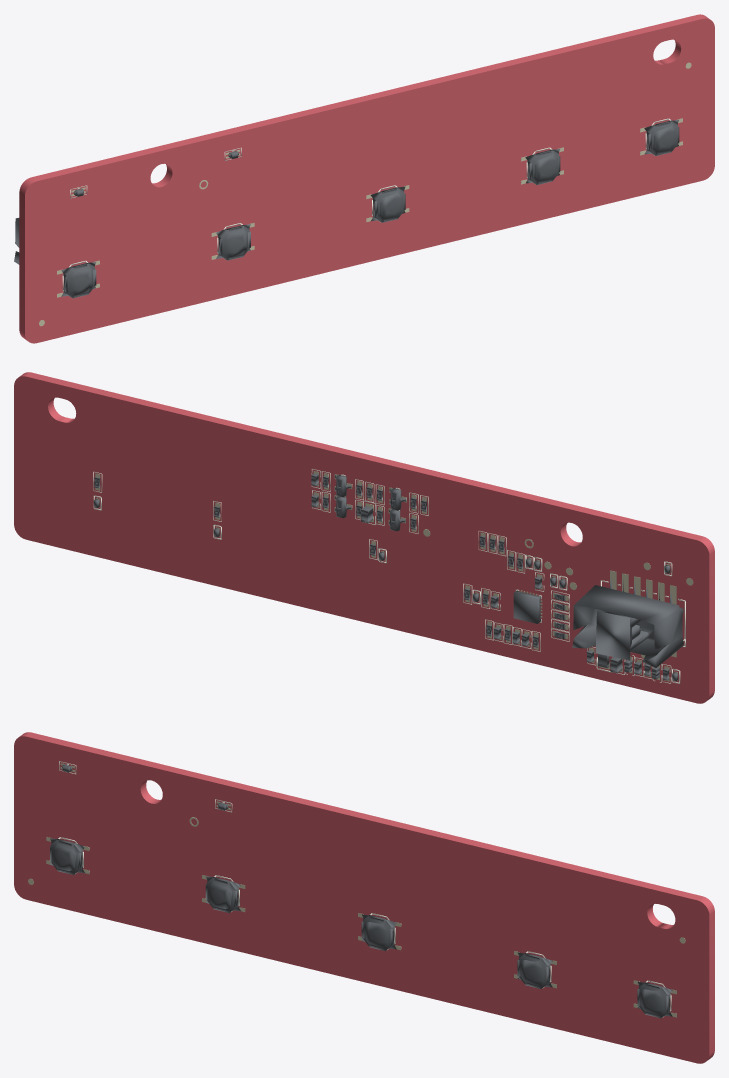
Rendered from pcb-ui.glb.
3 views of the same model, one above another, from view 1: azimuth 30°, elevation 25°; view 2: azimuth 150°, elevation 25°; view 3: azimuth 330°, elevation 25° (orthographic).
Visible parts, largest first — view 1: pcb, body, pads; view 2: pcb, body, silk, pads; view 3: pcb, body, pads.
Boxes of the visible parts, x1=… form: pcb: x1=19, y1=14, x2=714, y2=343; body: x1=14, y1=119, x2=679, y2=298; pads: x1=39, y1=62, x2=691, y2=326; pcb: x1=14, y1=372, x2=714, y2=703; body: x1=94, y1=473, x2=683, y2=681; silk: x1=93, y1=468, x2=685, y2=683; pads: x1=95, y1=471, x2=693, y2=681; pcb: x1=14, y1=732, x2=714, y2=1063; body: x1=50, y1=764, x2=672, y2=1018; pads: x1=28, y1=763, x2=685, y2=1017.
Size of the model in its own units: 116 by 26 by 11.66.
